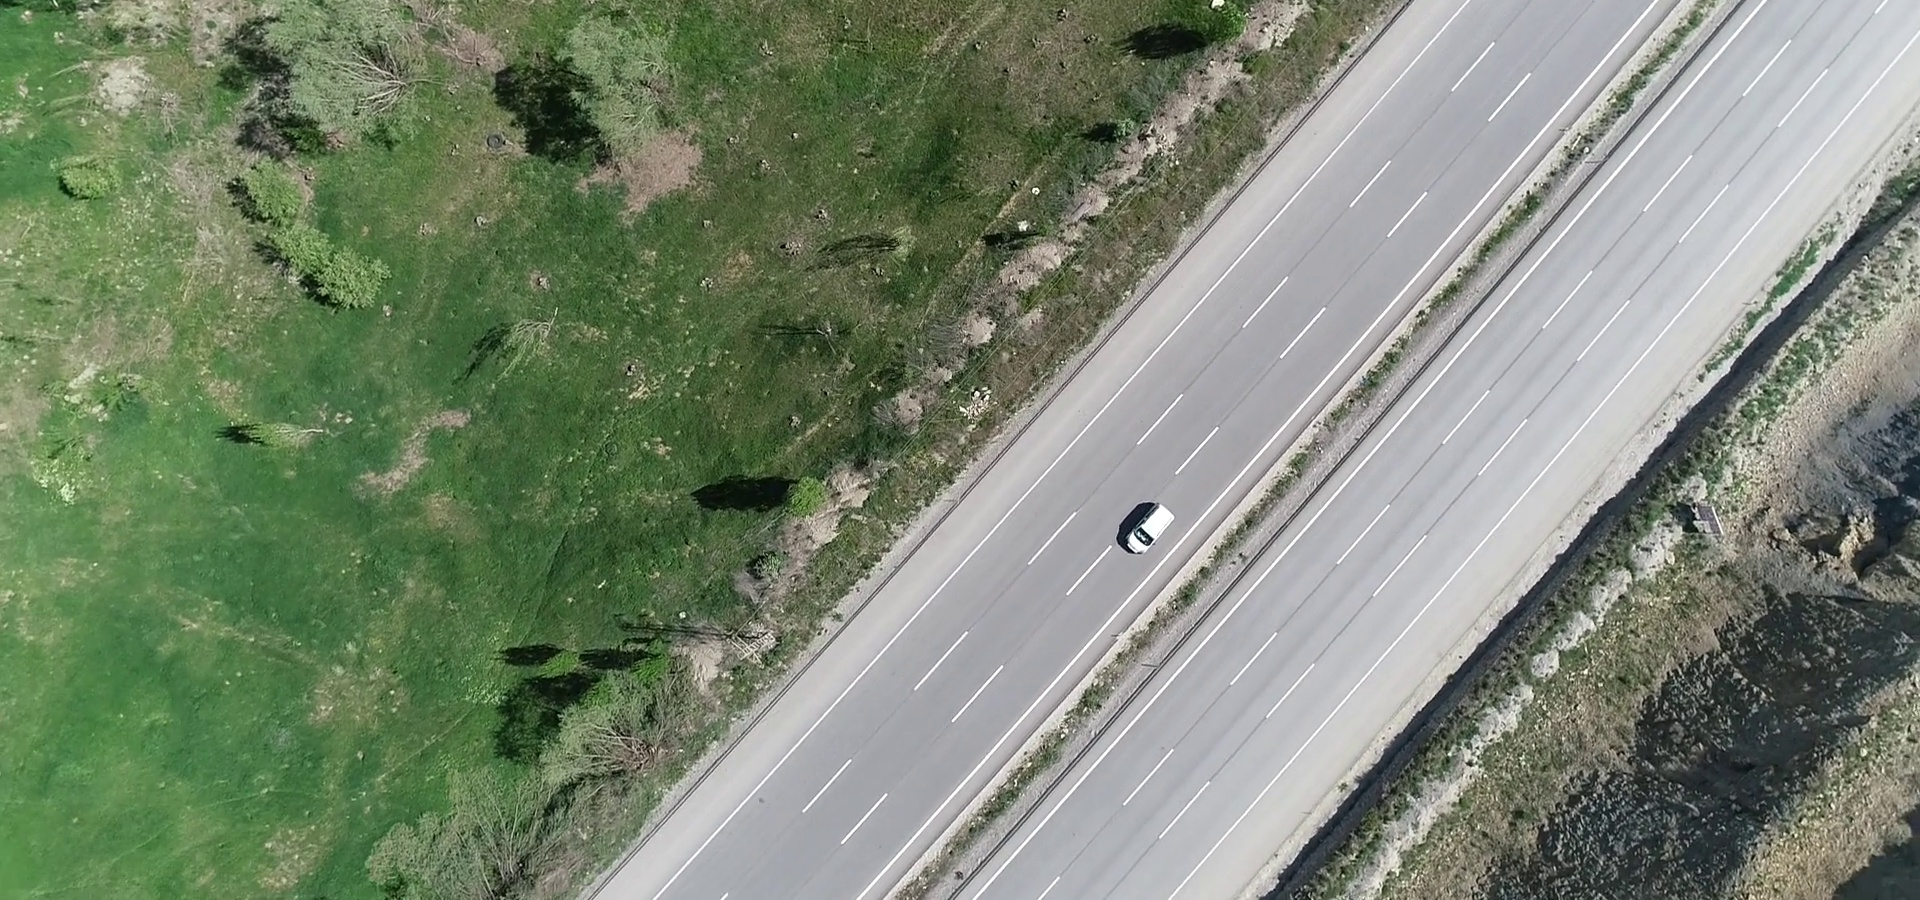araba: (1112, 500, 1182, 563)
